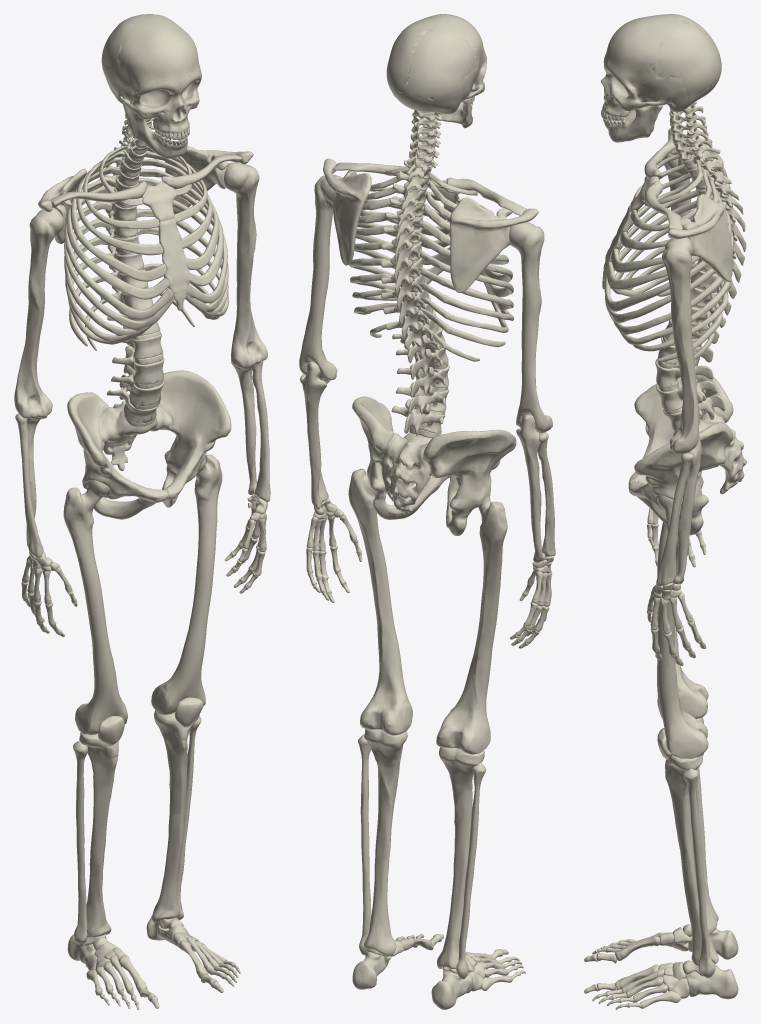
Rendered from bone.glb.
The picture shows the model from 3 angles, left to right: view 1: azimuth 30°, elevation 25°; view 2: azimuth 150°, elevation 25°; view 3: azimuth 270°, elevation 25°; orthographic projection.
Parts seen in each view (by area): view 1: Object_3; view 2: Object_3; view 3: Object_3.
Part boxes in pixels (bbox=[...]): Object_3: bbox=[14, 14, 270, 1009]; Object_3: bbox=[299, 14, 555, 1009]; Object_3: bbox=[584, 14, 746, 1009].
Bounding box in the file's own units: 1.88 × 6.91 × 1.06.
